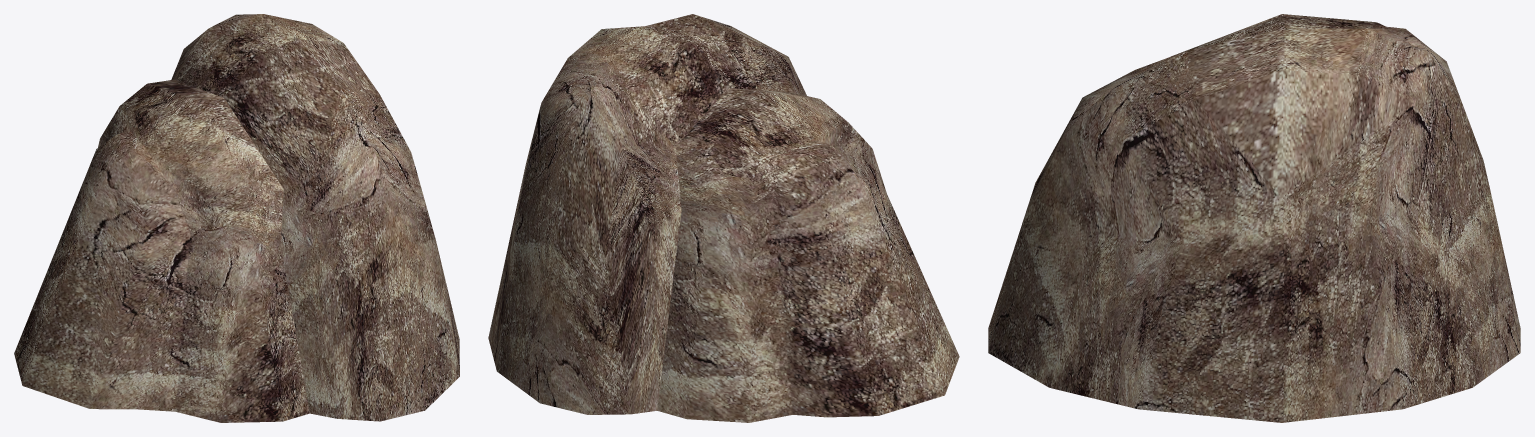
Rendered from large_boulder02.fbx.
3 renders of one model, left to right at view 1: azimuth 30°, elevation 25°; view 2: azimuth 150°, elevation 25°; view 3: azimuth 270°, elevation 25°, orthographic. The views are drawn at different scales.
Parts seen in each view (by area): view 1: mesh_0; view 2: mesh_0; view 3: mesh_0.
Boxes of the visible parts, x1,y1,x2,y2 form: mesh_0: [14, 14, 459, 422]; mesh_0: [488, 14, 959, 422]; mesh_0: [988, 14, 1520, 422].
Size of the model in its own units: 601 by 400 by 595.
Materials: 1 (1 with a texture image).
